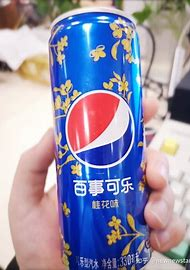Pepsi: (48, 6, 154, 270)
